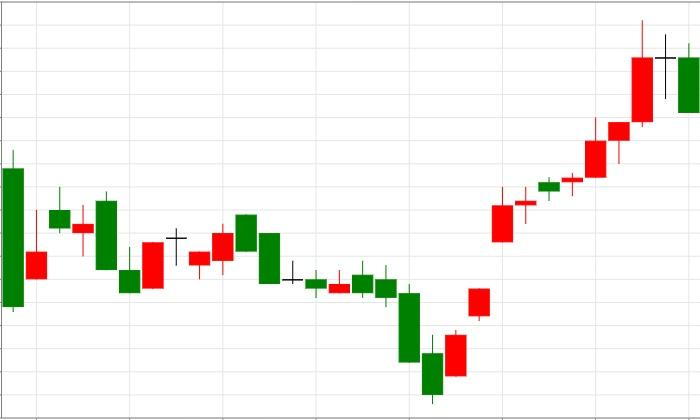evening_star_fall: (445, 19, 699, 376)
three_white_soldiers_rise: (235, 187, 513, 404)
